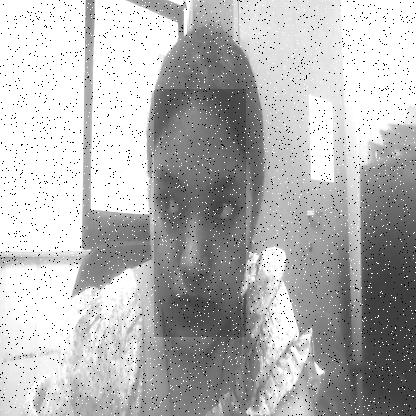Normal: (154, 89, 246, 337)
